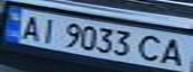0: (78, 24, 100, 52)
3: (112, 28, 136, 58), (93, 25, 115, 56)
9: (57, 20, 84, 50)
A: (15, 11, 45, 42), (157, 37, 187, 67)
C: (136, 33, 169, 64)
I: (36, 16, 63, 44)
